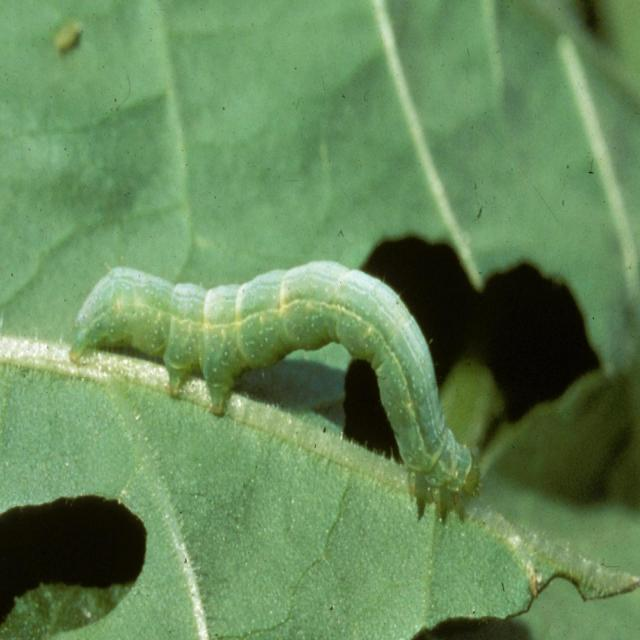looper: (61, 244, 490, 526)
